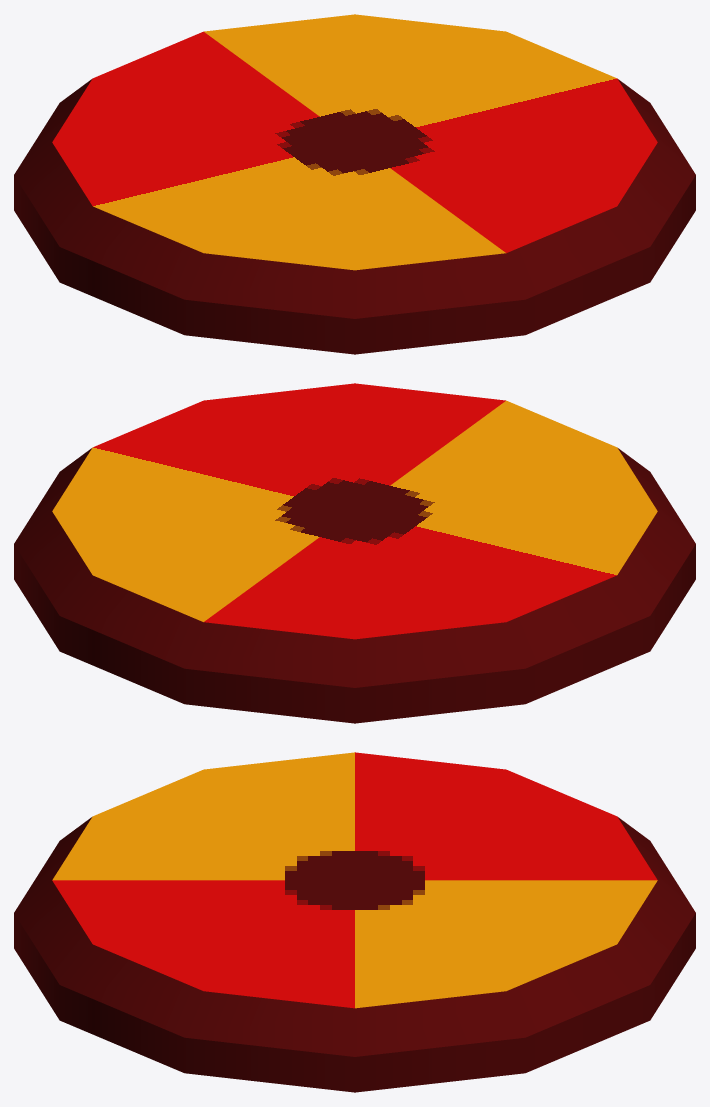
The model's file is Fbx_Checkpoint.fbx.
3 views of the same model, one above another, from view 1: azimuth 30°, elevation 25°; view 2: azimuth 150°, elevation 25°; view 3: azimuth 270°, elevation 25° (orthographic).
Parts seen in each view (by area): view 1: Checkpoint; view 2: Checkpoint; view 3: Checkpoint.
Boxes of the visible parts, x1,y1,x2,y2 form: Checkpoint: [14, 14, 695, 354]; Checkpoint: [14, 383, 695, 723]; Checkpoint: [14, 752, 695, 1092].
Size of the model in its own units: 2 by 0.2203 by 2.
1 material, 1 textured.
